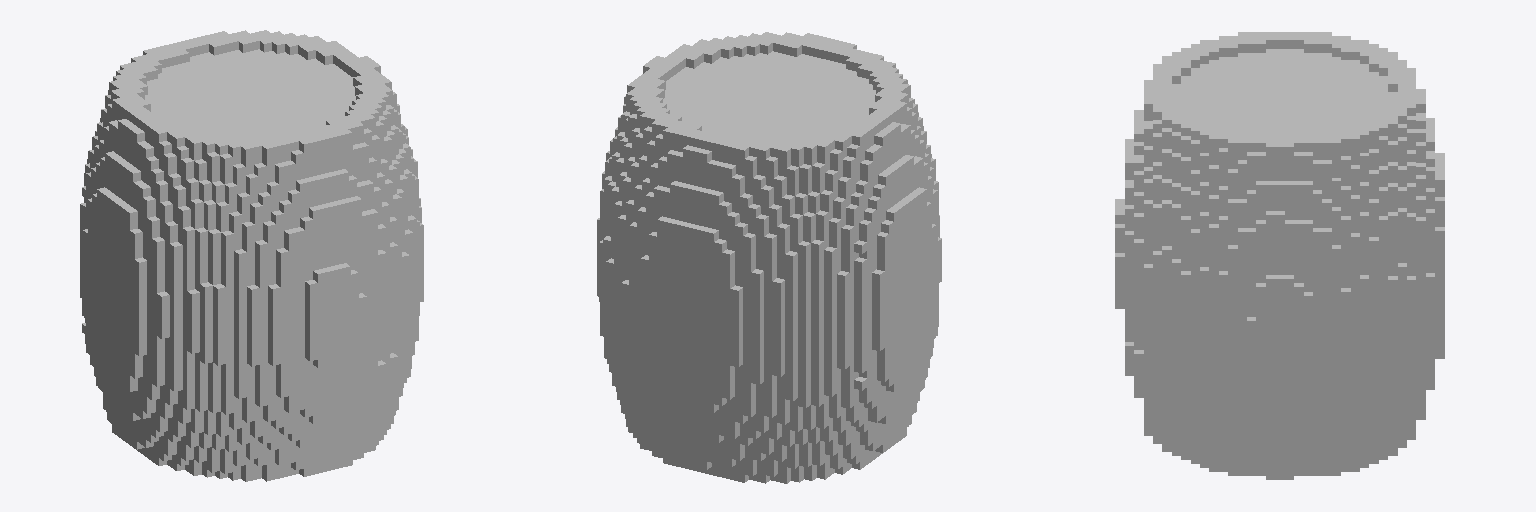
The model's file is bochka_000.obj.
3 views of the same model, side by side, from view 1: azimuth 30°, elevation 25°; view 2: azimuth 150°, elevation 25°; view 3: azimuth 270°, elevation 25° (orthographic).
Bounding box in the file's own units: 35 × 39 × 35.